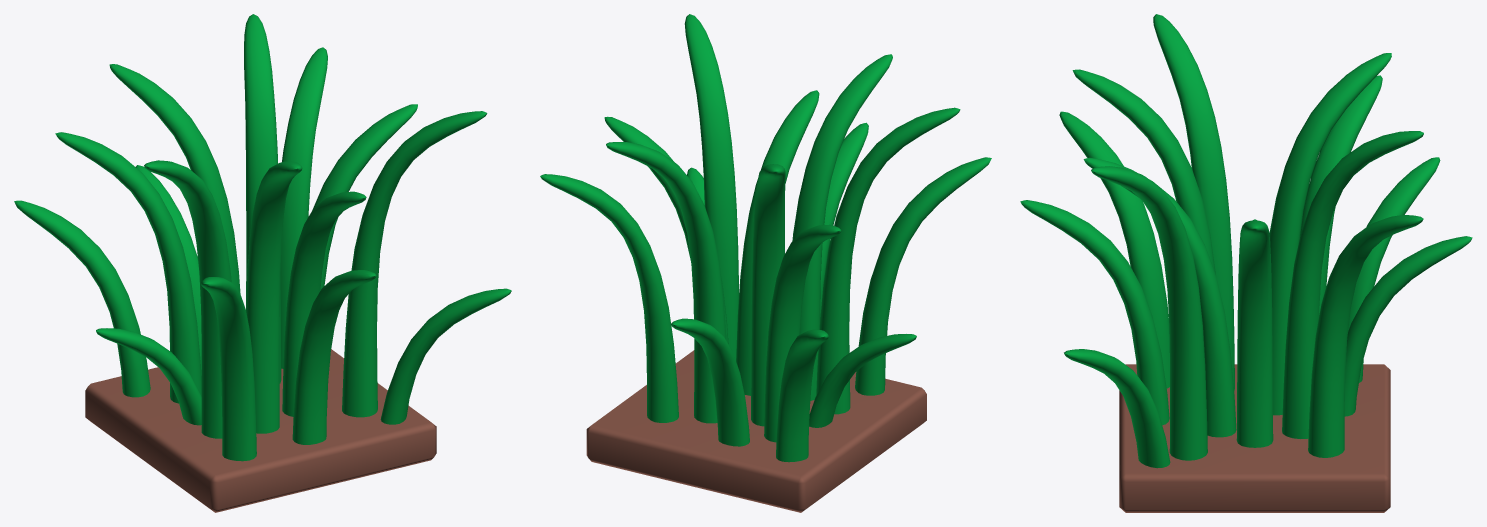
The model's file is Farm_18_Ground_with_Grass_1.glb.
3 renders of one model, left to right at view 1: azimuth 30°, elevation 25°; view 2: azimuth 150°, elevation 25°; view 3: azimuth 270°, elevation 25°, orthographic. The views are drawn at different scales.
Visible parts, largest first — view 1: Farm_18_Ground_with_Grass_1; view 2: Farm_18_Ground_with_Grass_1; view 3: Farm_18_Ground_with_Grass_1.
Boxes of the visible parts, x1=… form: Farm_18_Ground_with_Grass_1: x1=14, y1=14, x2=511, y2=512; Farm_18_Ground_with_Grass_1: x1=540, y1=14, x2=991, y2=512; Farm_18_Ground_with_Grass_1: x1=1020, y1=14, x2=1472, y2=512.
Bounding box in the file's own units: 1.28 × 1.31 × 1.48.
Materials: 1 (1 with a texture image).
